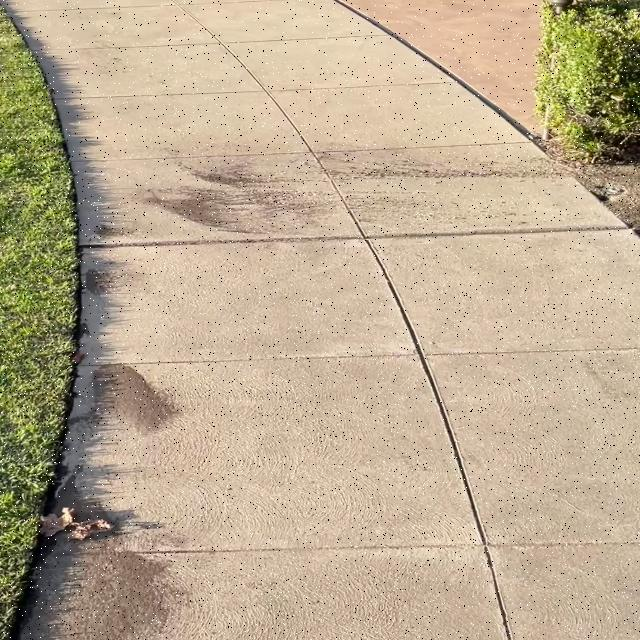walkway: (69, 208, 636, 354), (50, 404, 640, 542), (33, 508, 639, 640), (54, 106, 596, 236), (67, 316, 640, 427), (32, 40, 438, 130)
